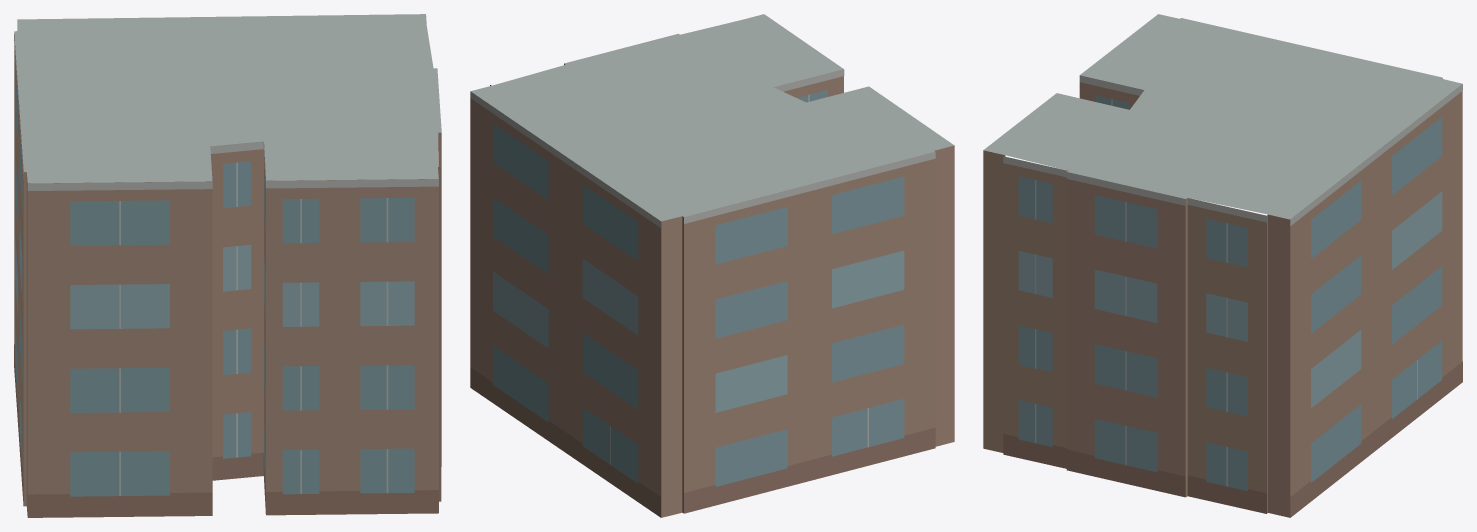
The model's file is survey-upis-32984095.glb.
The picture shows the model from 3 angles, left to right: view 1: azimuth 30°, elevation 25°; view 2: azimuth 150°, elevation 25°; view 3: azimuth 270°, elevation 25°; orthographic projection. The views are drawn at different scales.
Parts seen in each view (by area): view 1: survey-upis-32984095.tmp; view 2: survey-upis-32984095.tmp; view 3: survey-upis-32984095.tmp.
Boxes of the visible parts, <box> form: survey-upis-32984095.tmp: <box>14,14,441,517</box>; survey-upis-32984095.tmp: <box>470,14,954,517</box>; survey-upis-32984095.tmp: <box>983,14,1462,517</box>.
Bounding box in the file's own units: 15.67 × 10.6 × 15.45.
